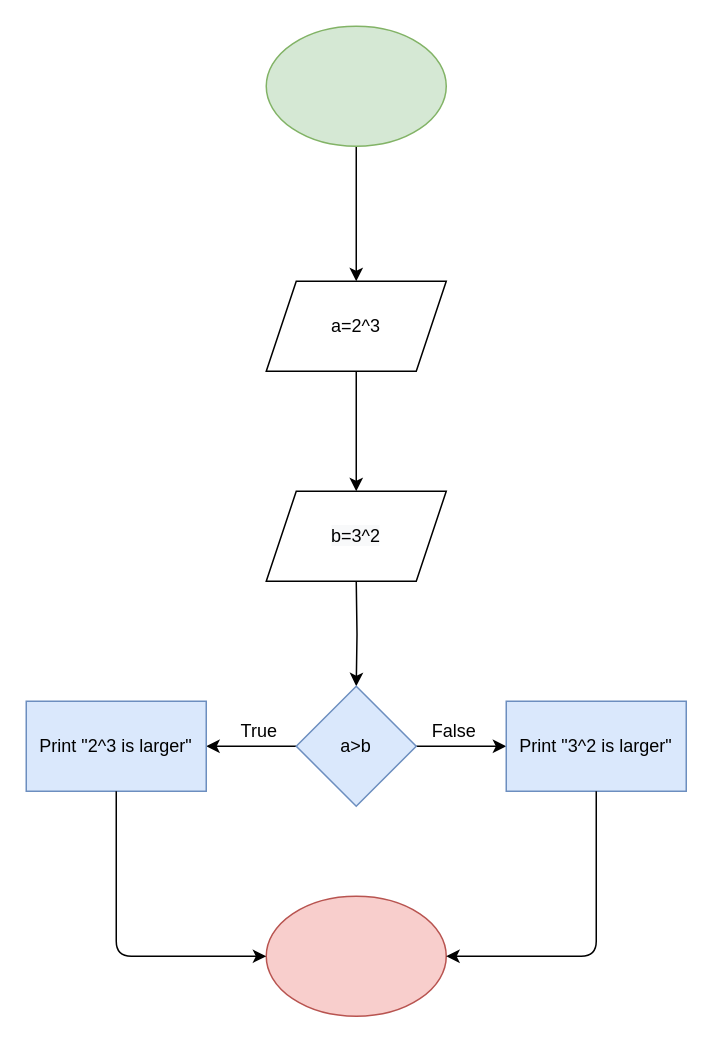
This 713x1043 diagram has some shape labels left out. Here are the shapes that lost their labels. From the top down, the centre of each, then its label:
pixel 355 85: Start
pixel 355 955: END
